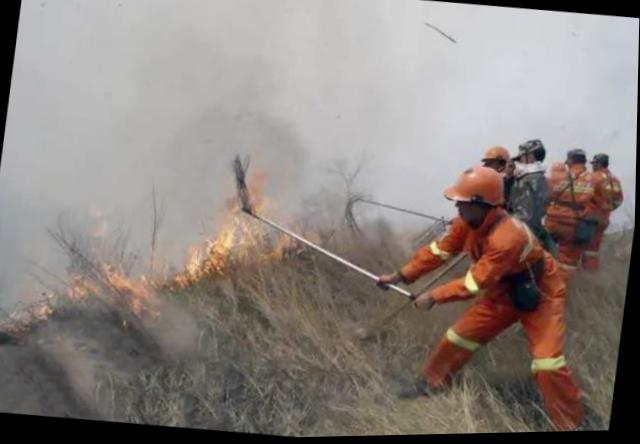fire: (55, 139, 309, 332)
